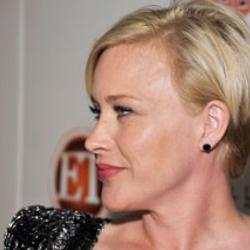face: (59, 1, 248, 235)
